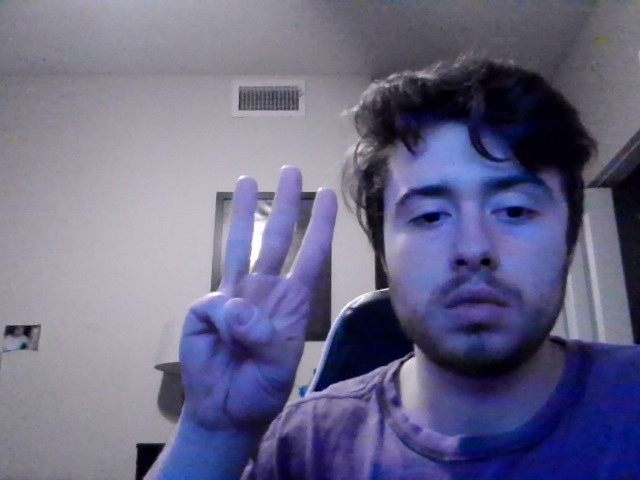w: (179, 165, 339, 461)
